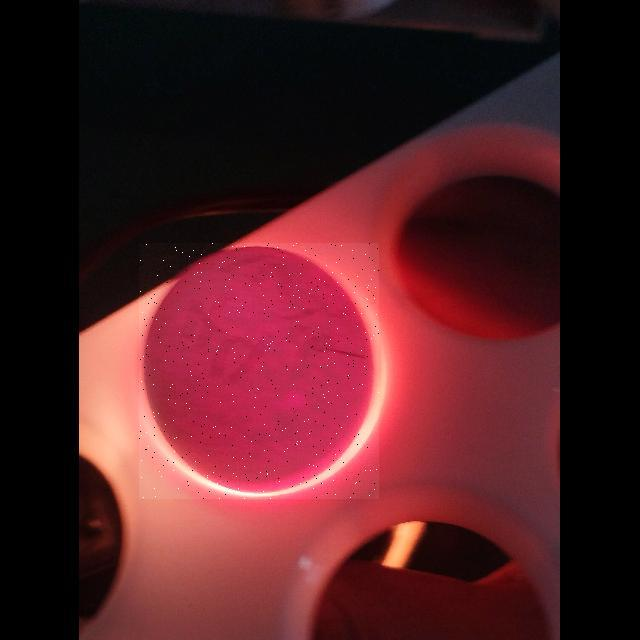Infertile: (139, 243, 379, 499)
